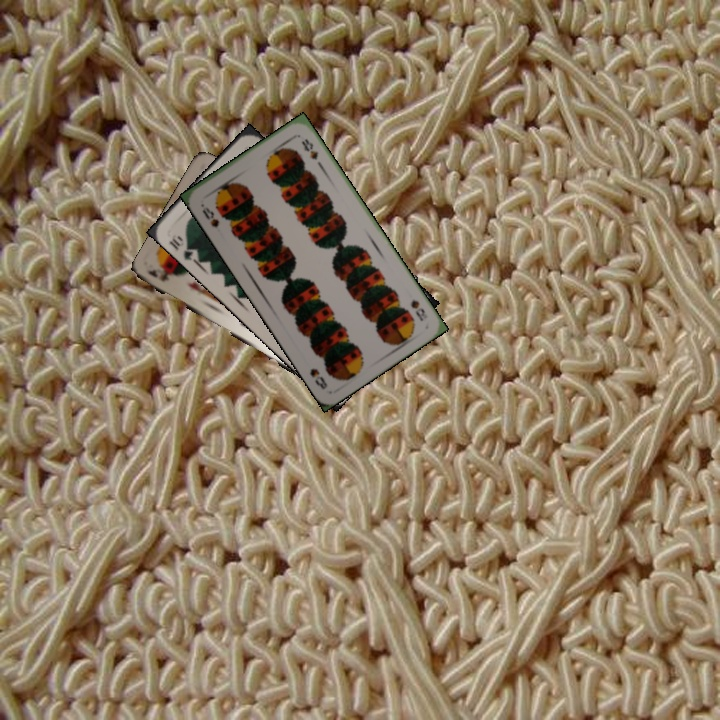G10: (165, 231, 201, 263)
S8: (196, 199, 222, 230), (407, 296, 428, 324)
SK: (144, 265, 172, 284)
